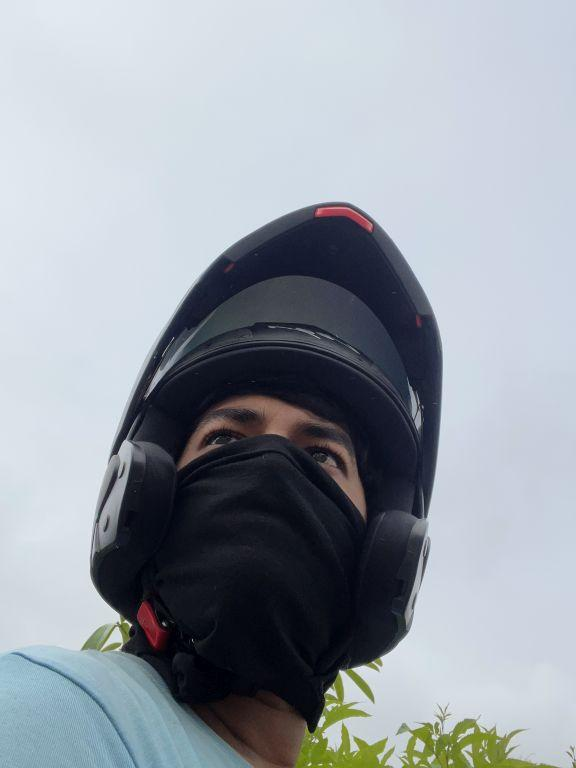helmet: (75, 185, 445, 694)
